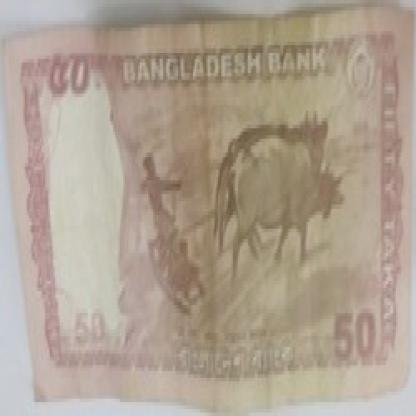Fifty taka: (43, 45, 105, 108), (330, 301, 374, 378)
